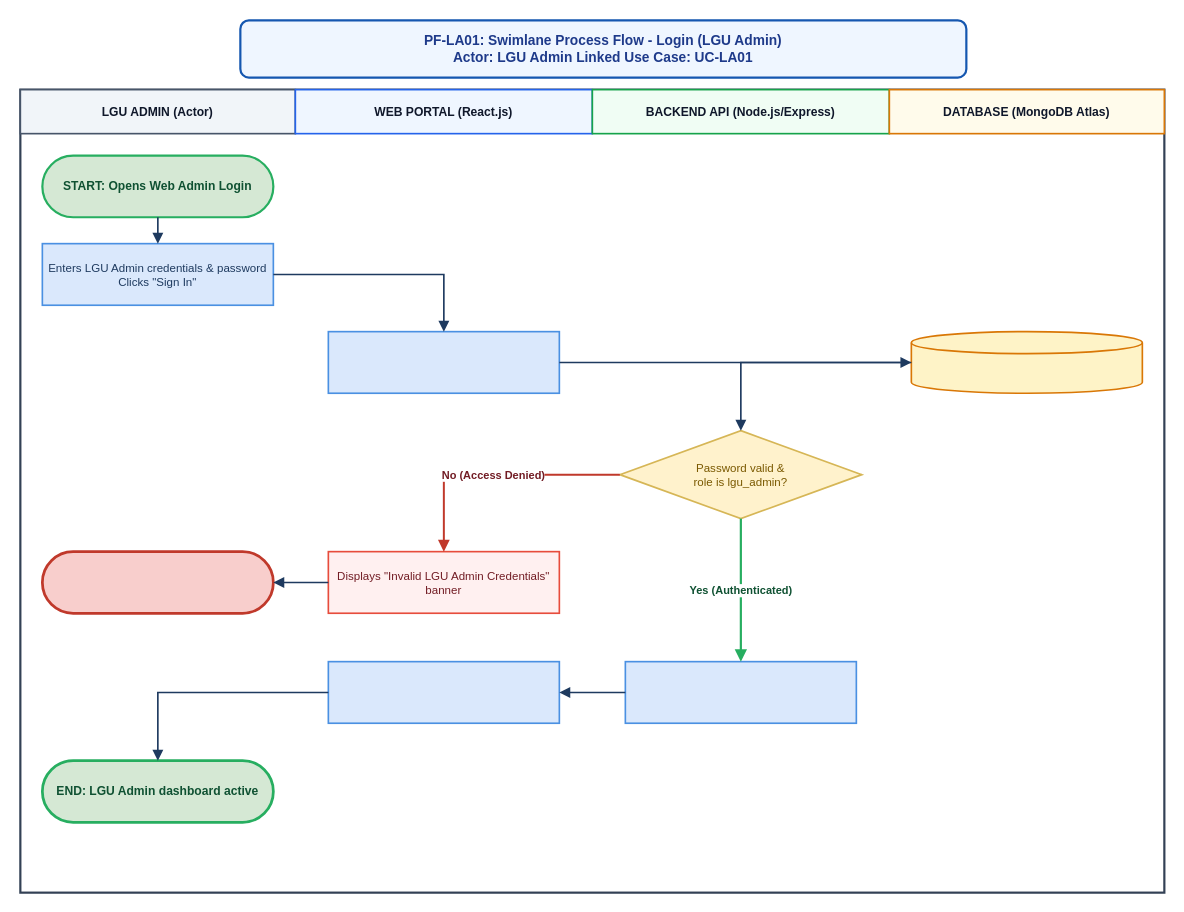
Image size: 1184x912. Some labels were removed from this diagram. The shapes that lost their labels are listed below. From the top down, each one's centre as x and y in pixels, then its label:
point 443,362: Web Portal sends POST /api/auth/login request with LGU credentials
point 1026,362: MongoDB: Verifies User record & role = "lgu_admin"
point 157,582: END: LGU Admin login rejected
point 443,692: Initializes City Operations Command Center Dashboard
point 740,692: Signs JWT token scoped with city-wide administrative permissions
